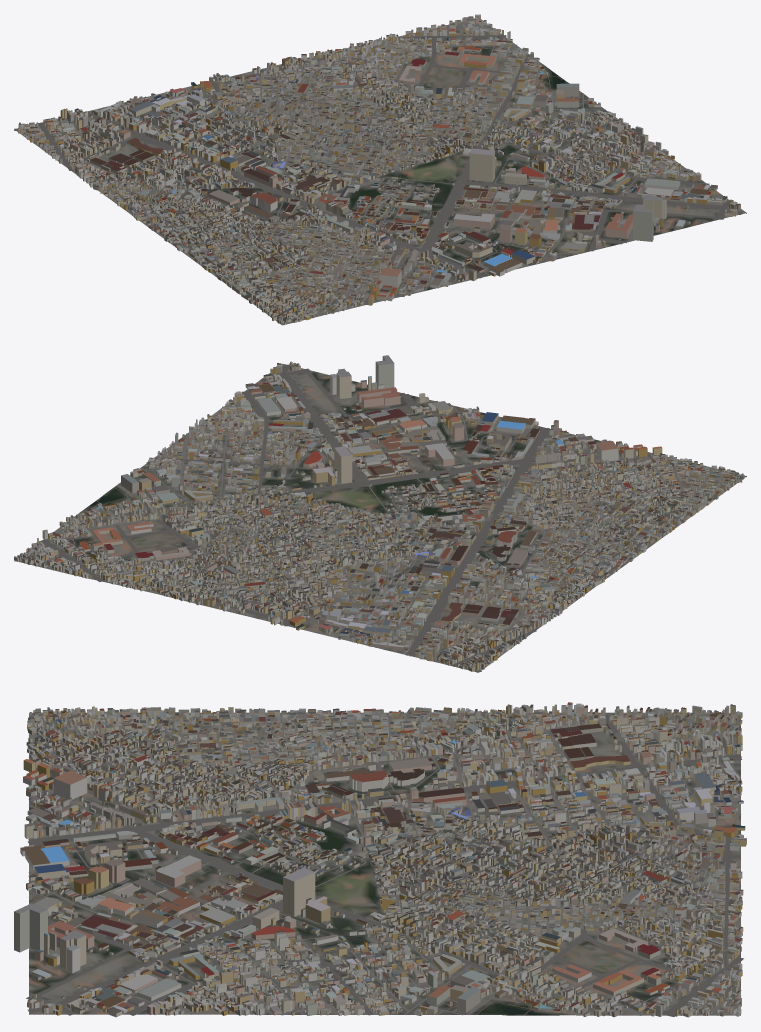
3 renders of one model, top to bottom at view 1: azimuth 30°, elevation 25°; view 2: azimuth 150°, elevation 25°; view 3: azimuth 270°, elevation 25°, orthographic. The views are drawn at different scales.
Parts seen in each view (by area): view 1: buildings, ground, roads; view 2: buildings, ground, roads; view 3: buildings, ground, roads.
Boxes of the visible parts, left/top/right/bottom form: buildings: left=18, top=14, right=740, bottom=324; ground: left=14, top=18, right=746, bottom=325; roads: left=14, top=19, right=745, bottom=323; buildings: left=14, top=355, right=744, bottom=671; ground: left=14, top=363, right=746, bottom=671; roads: left=19, top=364, right=732, bottom=672; buildings: left=14, top=702, right=746, bottom=1017; ground: left=29, top=712, right=740, bottom=1015; roads: left=26, top=712, right=743, bottom=1016.
Bounding box in the file's own units: 1419 × 88.39 × 1442.
